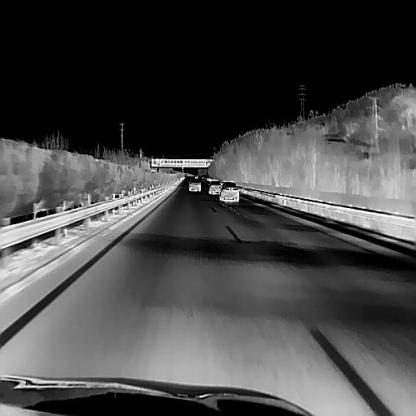car: (219, 180, 239, 201), (208, 180, 220, 194), (189, 177, 200, 191)
